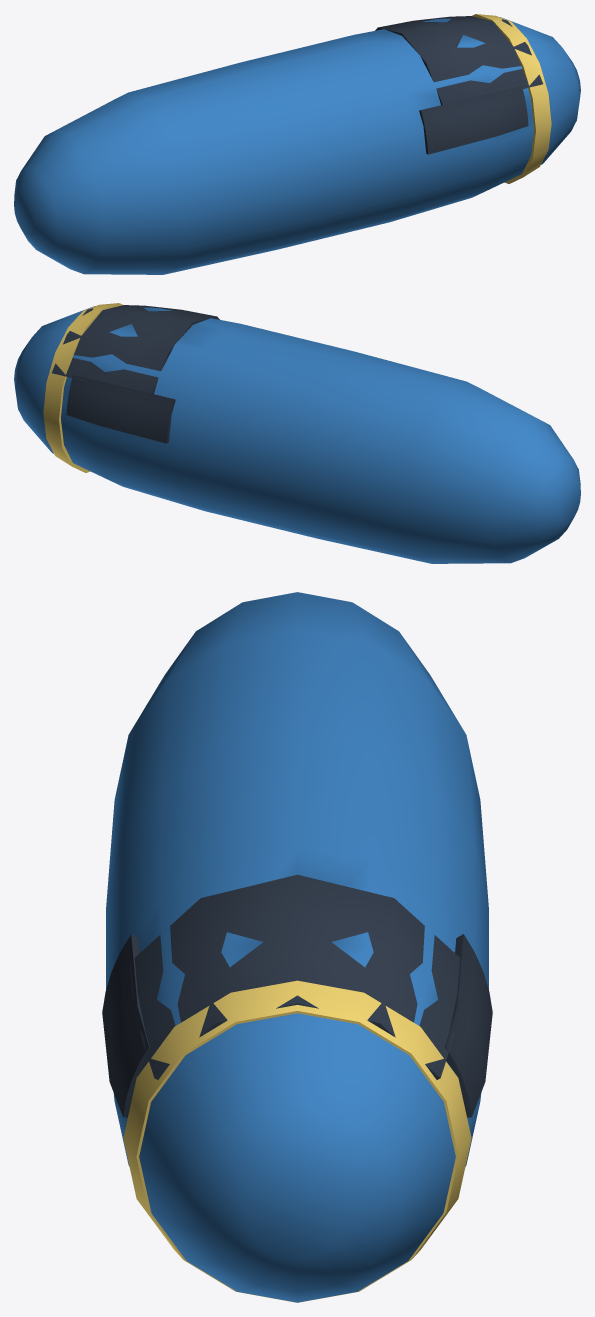
File: fuselage-pod.glb
3 views of the same model, one above another, from view 1: azimuth 30°, elevation 25°; view 2: azimuth 150°, elevation 25°; view 3: azimuth 270°, elevation 25° (orthographic). The views are drawn at different scales.
Parts seen in each view (by area): view 1: body, dark, trim; view 2: body, dark, trim; view 3: body, dark, trim.
Part boxes in pixels (<box>): body: <box>14,17,580,274</box>; dark: <box>375,16,542,154</box>; trim: <box>472,14,551,183</box>; body: <box>14,306,580,563</box>; dark: <box>52,305,219,443</box>; trim: <box>43,303,122,472</box>; body: <box>106,592,488,1302</box>; dark: <box>102,874,492,1117</box>; trim: <box>123,980,471,1302</box>.
Bounding box in the file's own units: 1.44 × 0.4424 × 0.4485.
